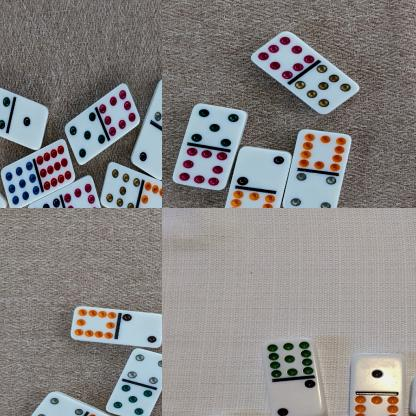pip-1: (350, 350, 402, 390), (10, 97, 48, 149)
pip-10: (297, 127, 351, 171), (70, 305, 117, 340), (347, 392, 402, 416), (224, 188, 275, 208), (137, 180, 162, 208)
pip-11: (260, 338, 316, 378)
pip-12: (35, 138, 74, 191)
pip-2: (235, 146, 292, 188), (266, 377, 323, 416), (131, 124, 162, 178), (117, 311, 162, 347)
pip-4: (281, 171, 335, 208), (29, 391, 83, 416), (126, 346, 162, 383), (153, 76, 162, 129)
pip-5: (190, 102, 248, 148), (66, 110, 104, 164), (105, 381, 151, 416), (0, 81, 10, 131)
pip-6: (27, 197, 65, 208)
pip-7: (293, 63, 360, 114), (99, 159, 139, 208)
pip-8: (249, 31, 315, 80), (173, 146, 228, 190), (99, 82, 139, 136), (63, 174, 101, 208)
pip-9: (0, 159, 38, 208)
